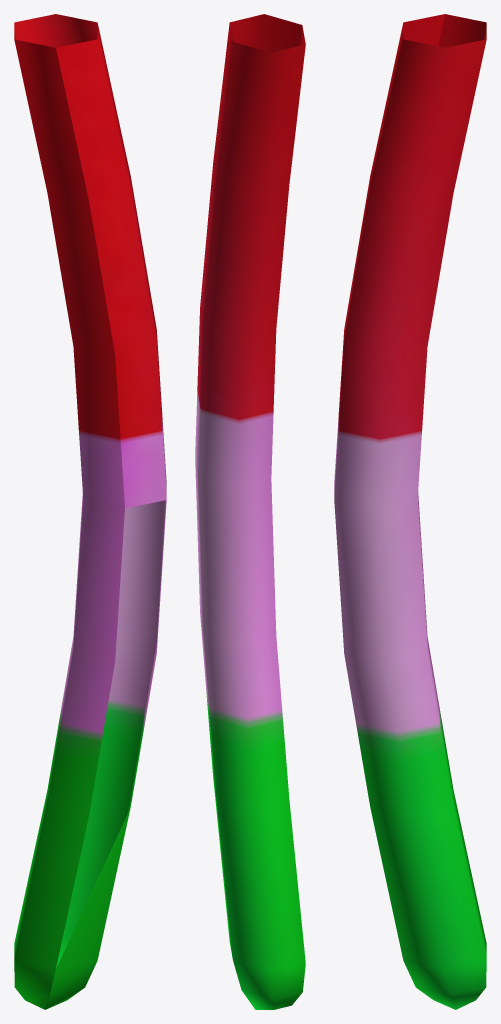
Rendered from pataatrasizq.obj.
3 renders of one model, left to right at view 1: azimuth 90°, elevation 25°; view 2: azimuth 210°, elevation 25°; view 3: azimuth 270°, elevation 25°, orthographic.
Visible parts, largest first — view 1: pataatrasizq; view 2: pataatrasizq; view 3: pataatrasizq.
Boxes of the visible parts, left/top/right/bottom form: pataatrasizq: left=14, top=14, right=166, bottom=1009; pataatrasizq: left=195, top=14, right=305, bottom=1009; pataatrasizq: left=334, top=14, right=486, bottom=1009.
Size of the model in its own units: 0.0241 by 0.3219 by 0.0458.
